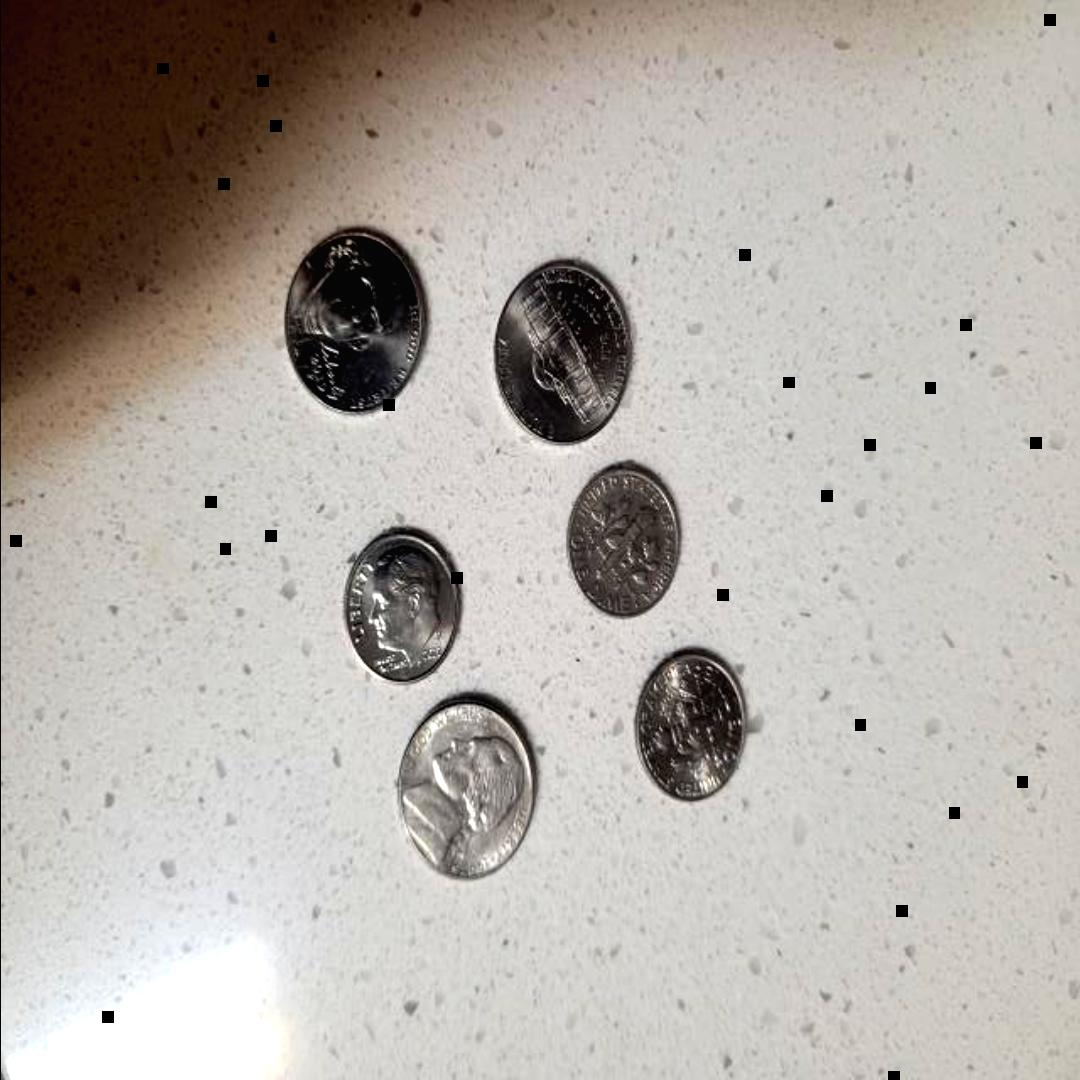Dime: (338, 524, 469, 690), (628, 644, 752, 808), (563, 462, 681, 620)
Nickel: (277, 220, 433, 424), (393, 688, 539, 887), (490, 256, 634, 452)
